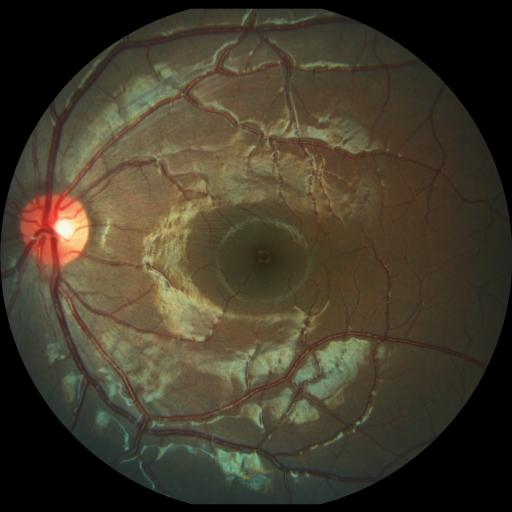Optic Cup: (50, 216, 76, 241)
Optic Disc: (20, 194, 89, 267)
